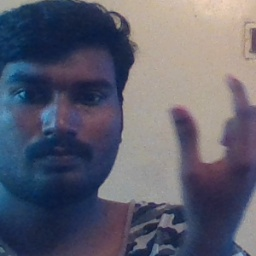U: (162, 72, 256, 212)
